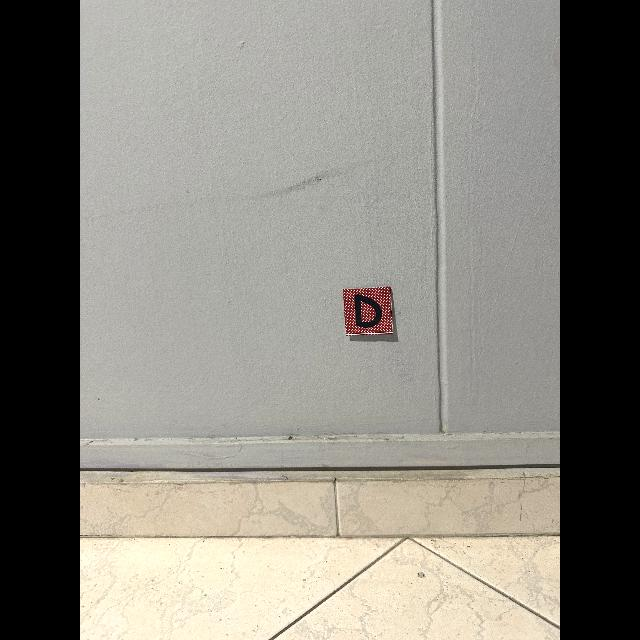D: (354, 294, 382, 328)
